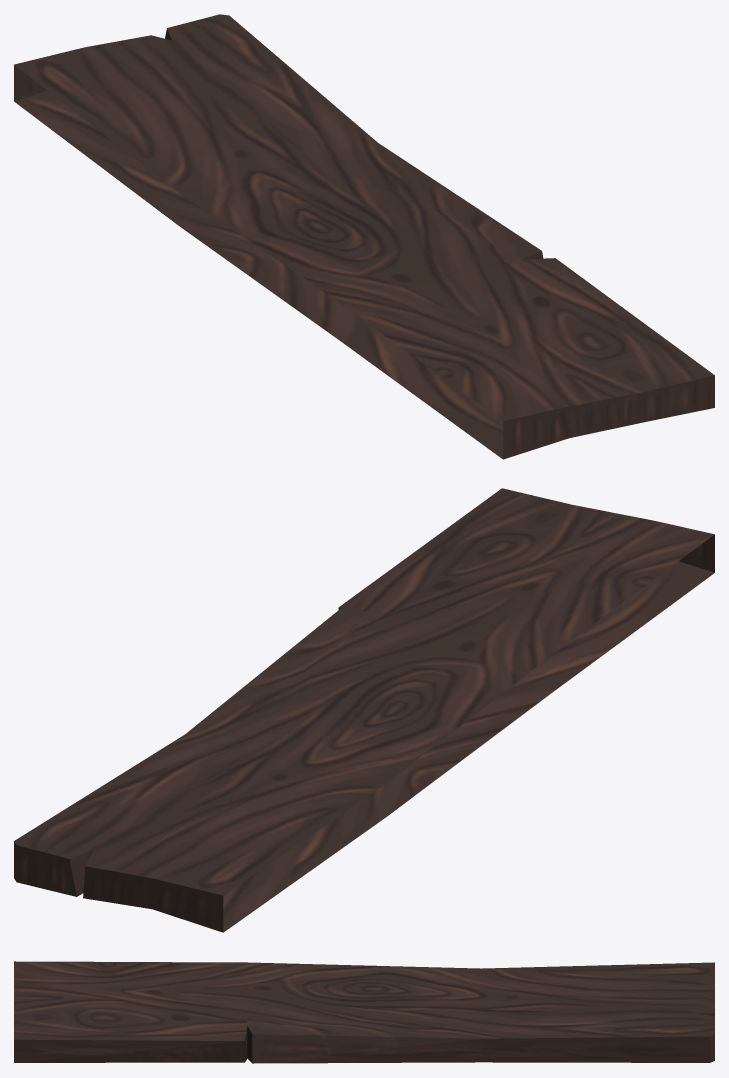
File: shelf.obj
The picture shows the model from 3 angles, top to bottom: view 1: azimuth 30°, elevation 25°; view 2: azimuth 150°, elevation 25°; view 3: azimuth 270°, elevation 25°; orthographic projection. The views are drawn at different scales.
Visible parts, largest first — view 1: shelf_Cube.056; view 2: shelf_Cube.056; view 3: shelf_Cube.056.
Part boxes in pixels (left/top/right/bottom): shelf_Cube.056: left=14, top=14, right=714, bottom=459; shelf_Cube.056: left=14, top=488, right=714, bottom=932; shelf_Cube.056: left=14, top=961, right=714, bottom=1063.
Size of the model in its own units: 0.3023 by 0.0578 by 1.2.
1 material, 1 textured.
